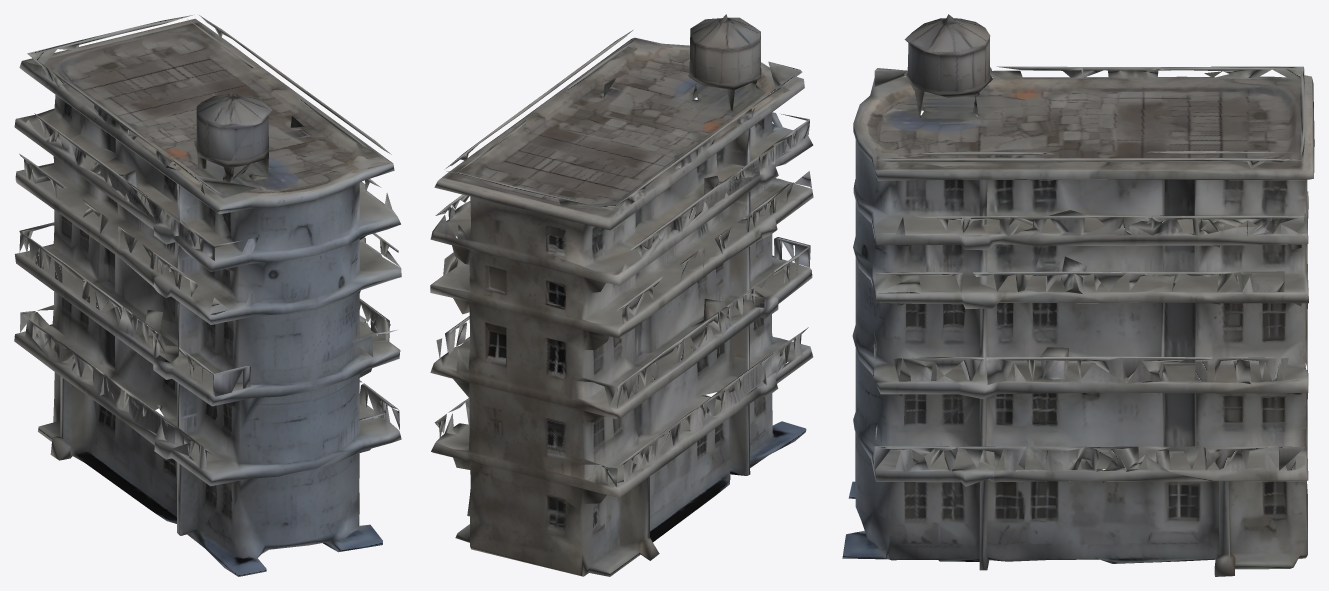
Rendered from apartments.glb.
The picture shows the model from 3 angles, left to right: view 1: azimuth 30°, elevation 25°; view 2: azimuth 150°, elevation 25°; view 3: azimuth 270°, elevation 25°; orthographic projection. The views are drawn at different scales.
Visible parts, largest first — view 1: body; view 2: body; view 3: body.
Boxes of the visible parts, x1,y1,x2,y2 form: body: (14,14,401,576); body: (430,14,813,576); body: (842,14,1314,576).
Bounding box in the file's own units: 6.3 × 13.35 × 11.6.
Materials: 1 (1 with a texture image).
